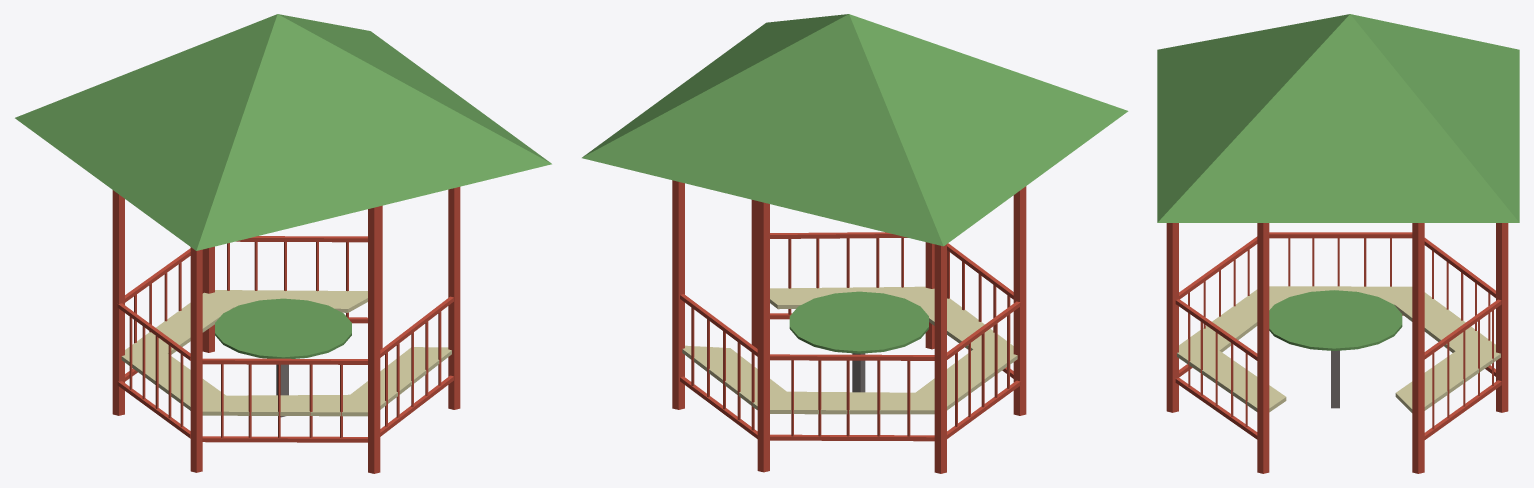
The model's file is Gazeebo.glb.
3 views of the same model, side by side, from view 1: azimuth 30°, elevation 25°; view 2: azimuth 150°, elevation 25°; view 3: azimuth 270°, elevation 25° (orthographic). The views are drawn at different scales.
Visible parts, largest first — view 1: SM_Alcove_01; view 2: SM_Alcove_01; view 3: SM_Alcove_01.
Boxes of the visible parts, x1,y1,x2,y2 form: SM_Alcove_01: [15, 14, 551, 473]; SM_Alcove_01: [582, 14, 1128, 473]; SM_Alcove_01: [1157, 14, 1519, 473].
Bounding box in the file's own units: 2.77 × 2.93 × 2.45.
Materials: 1 (1 with a texture image).
